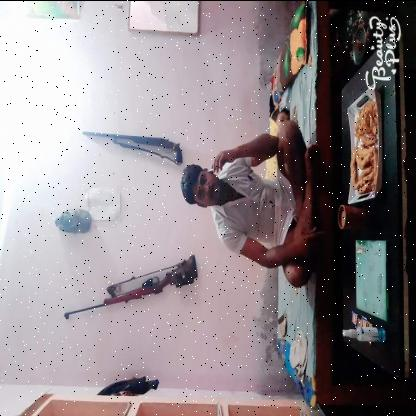rifle: (63, 252, 199, 320), (80, 128, 184, 166)
